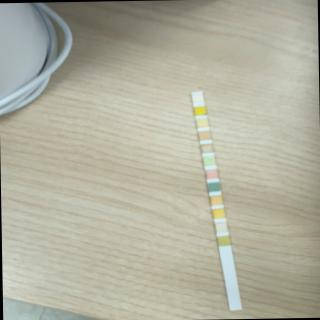mark: (217, 236, 230, 246), (215, 222, 227, 232), (193, 106, 206, 115), (202, 156, 215, 165), (196, 118, 208, 127), (198, 130, 210, 139), (208, 182, 220, 191), (212, 209, 224, 218), (206, 169, 217, 178), (201, 144, 213, 152), (210, 196, 222, 204), (192, 94, 203, 102)
